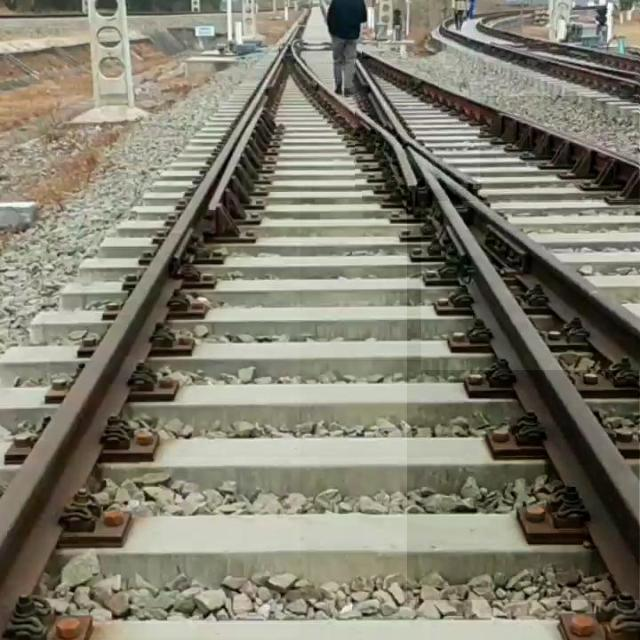rail: (2, 22, 301, 638), (408, 148, 640, 601), (422, 160, 640, 371), (363, 52, 640, 202), (294, 43, 419, 189), (440, 11, 640, 97), (356, 60, 481, 190), (477, 14, 640, 72)
